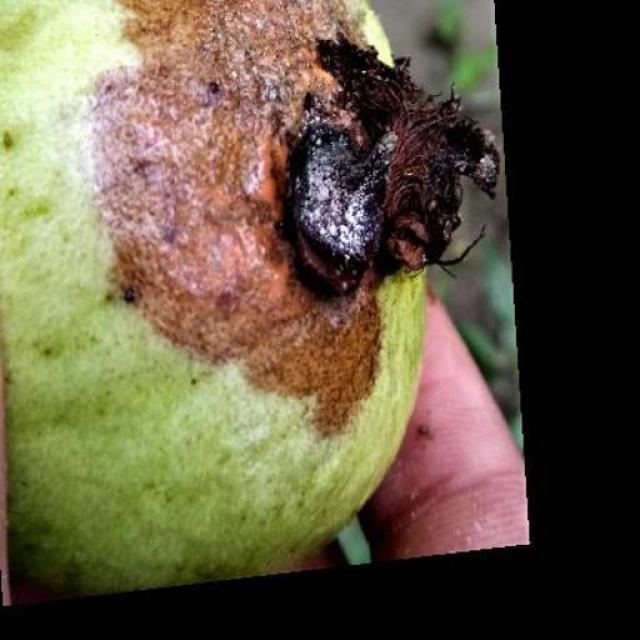Styler_Root: (0, 0, 498, 593)
